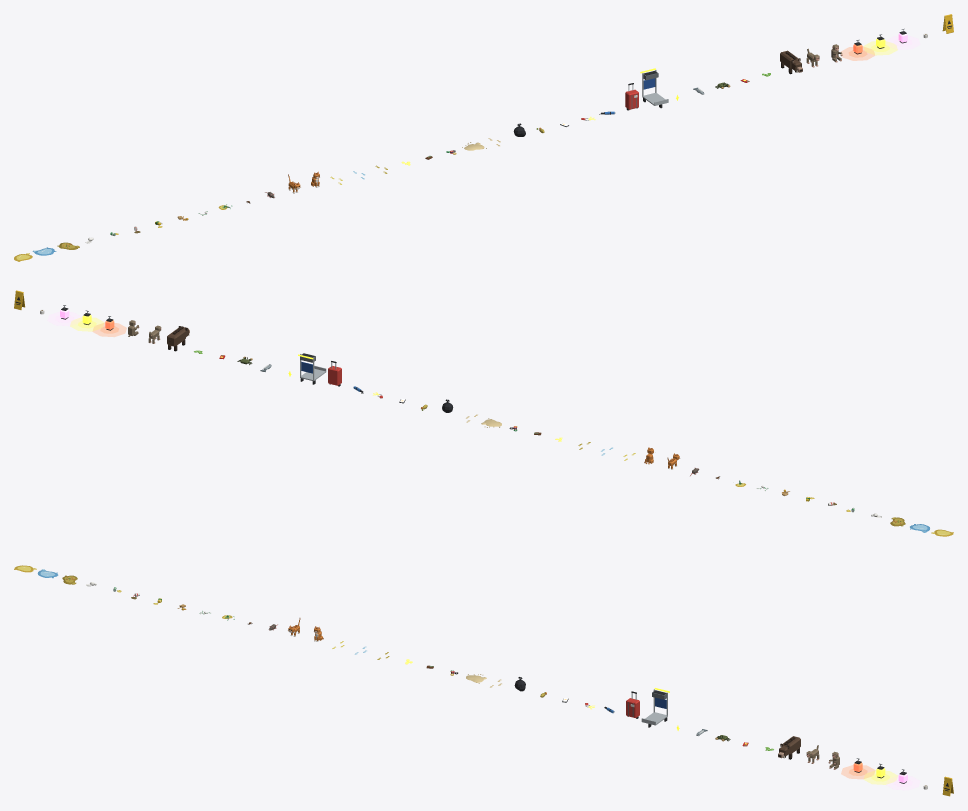
The model's file is props.glb.
3 renders of one model, top to bottom at view 1: azimuth 30°, elevation 25°; view 2: azimuth 150°, elevation 25°; view 3: azimuth 330°, elevation 25°, orthographic.
Parts seen in each view (by area): view 1: trolley; view 2: no part large enough to name; view 3: trolley.
Part boxes in pixels (x1=…): trolley: x1=640, y1=68, x2=668, y2=108; trolley: x1=641, y1=688, x2=669, y2=727.
Bounding box in the file's own units: 37.4 × 1.2 × 1.38.
